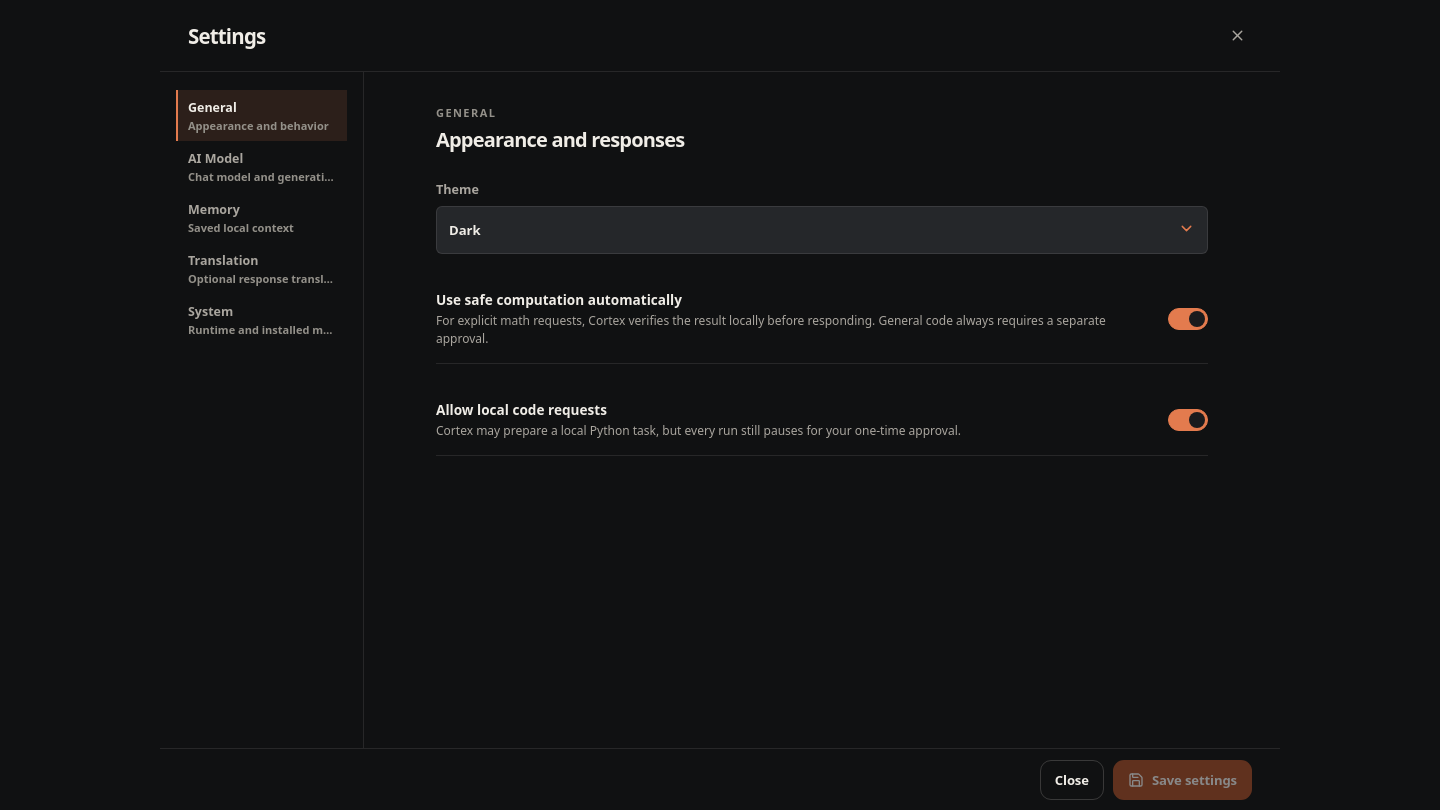
Test: SettingsPanel unsaved changes › keeps Save off and the pill away until something changes
Expected: the button "Save settings" is disabled, [1113, 760, 1252, 800]
Expected: the text "Unsaved changes" is not shown
Click the dropdown named "Theme": (465, 230) [436, 206, 1208, 254]
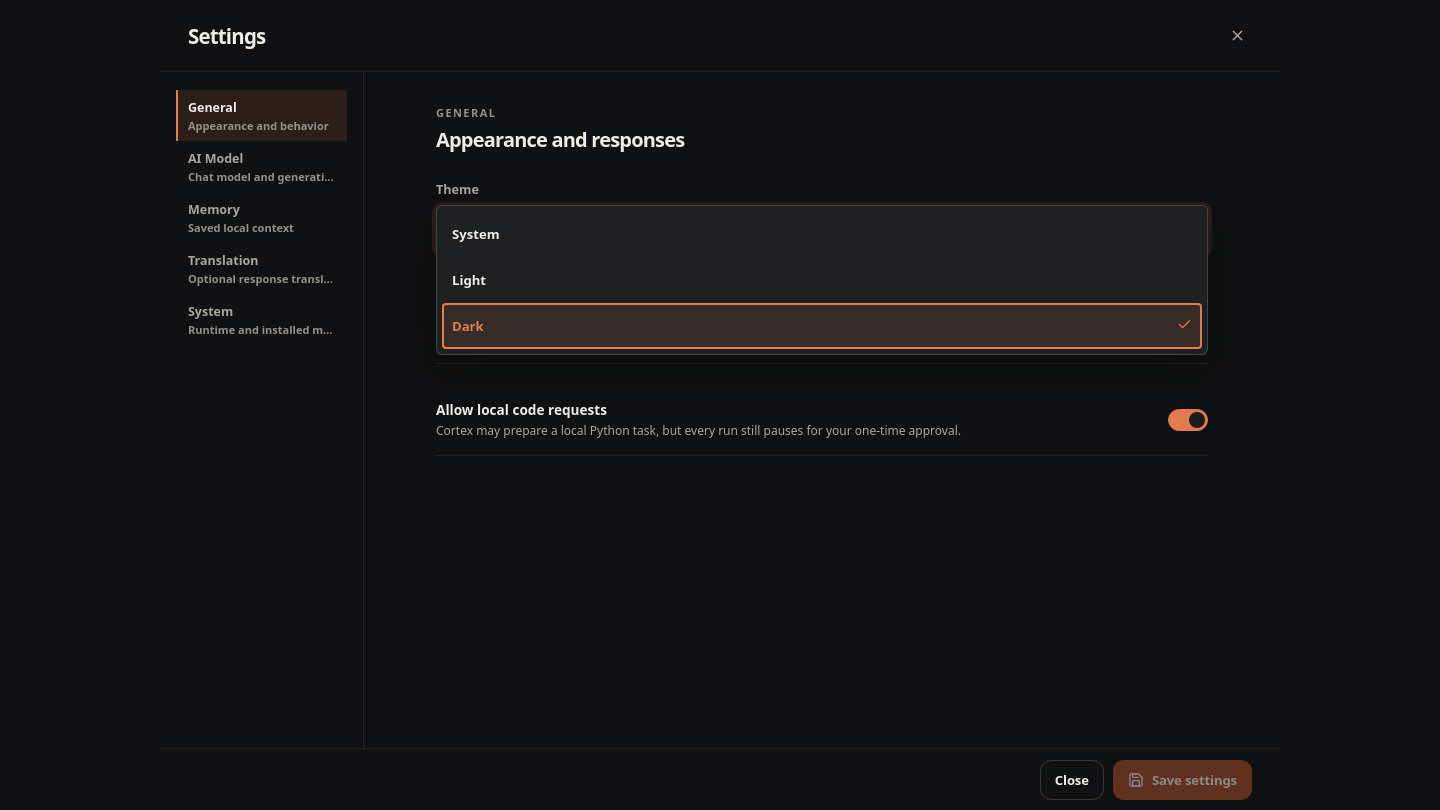
Click the option "Light": (469, 280) [452, 271, 486, 289]
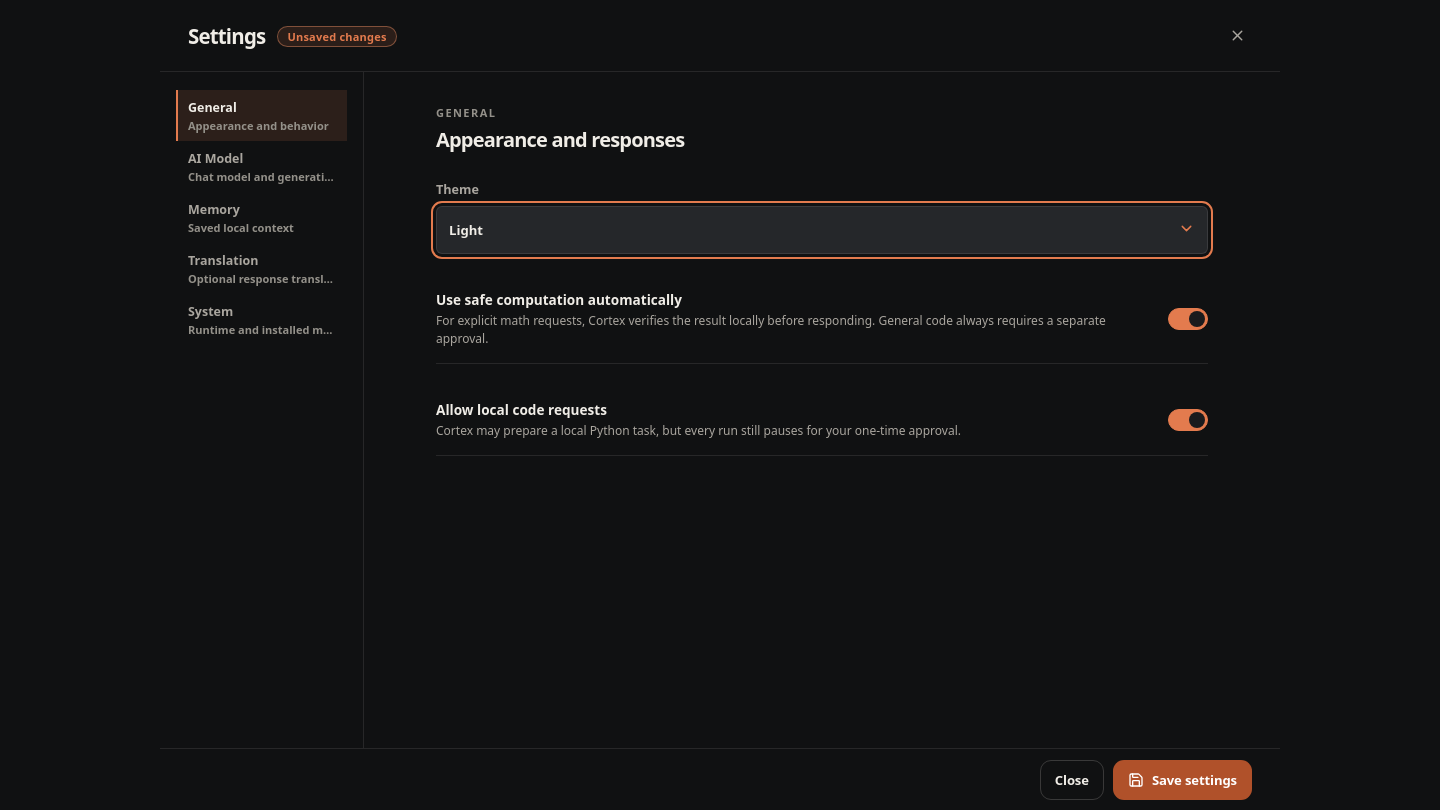
Expected: the button "Save settings" is enabled, [1113, 760, 1252, 800]
Expected: the text "Unsaved changes" is shown, [277, 26, 397, 47]
